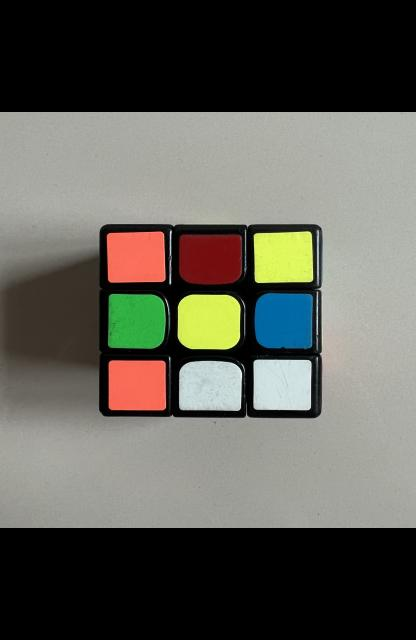Blue: (253, 293, 312, 348)
Green: (107, 294, 166, 349)
Orange: (106, 231, 164, 283), (107, 360, 166, 410)
Red: (178, 234, 240, 284)
White: (178, 361, 242, 411), (252, 360, 310, 410)
Yellow: (177, 294, 240, 349), (253, 231, 313, 283)
